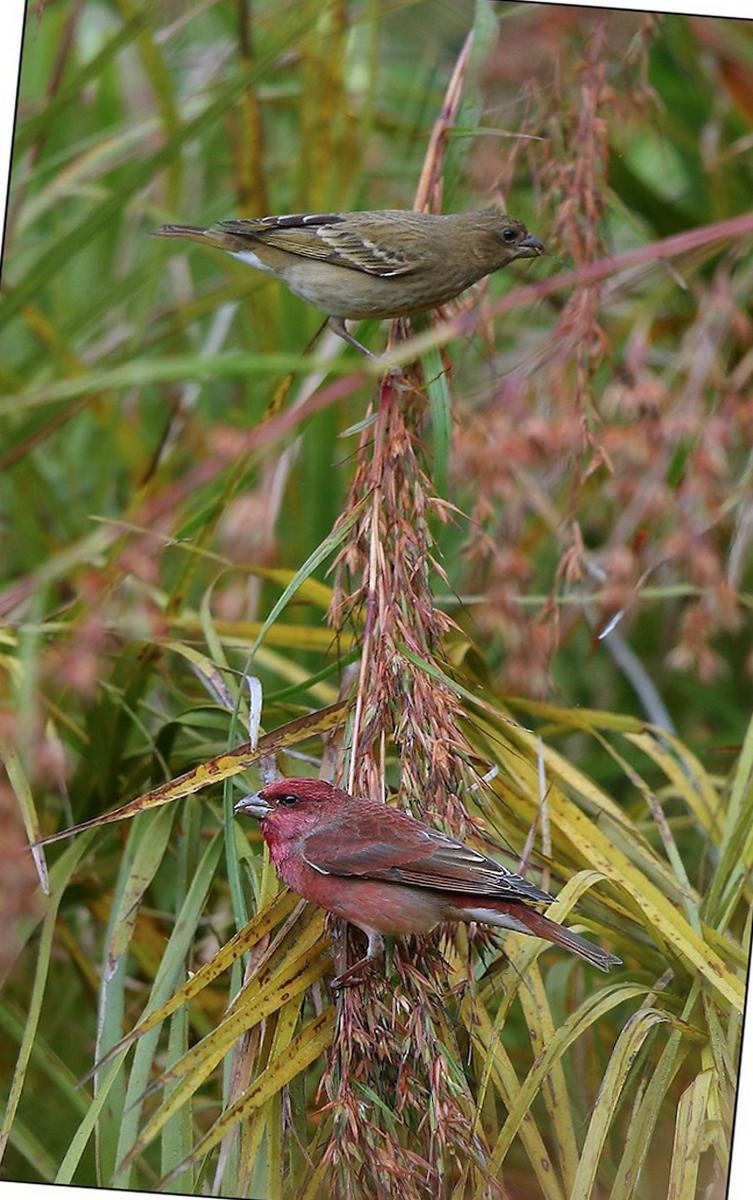rosefinch: (232, 776, 628, 1004), (164, 182, 565, 337)
